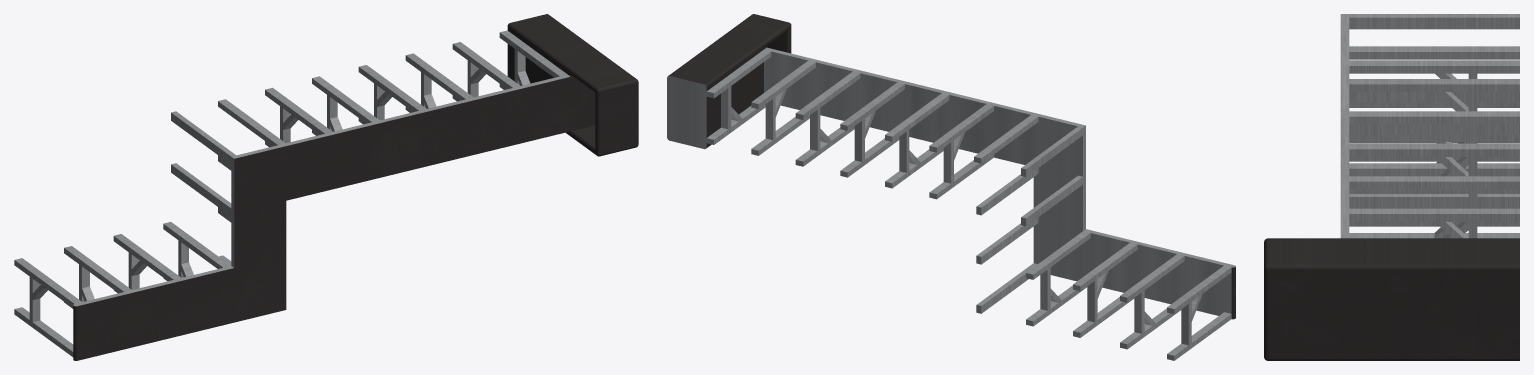
The model's file is assembly_conveyor.gltf.
3 views of the same model, side by side, from view 1: azimuth 30°, elevation 25°; view 2: azimuth 150°, elevation 25°; view 3: azimuth 270°, elevation 25° (orthographic). The views are drawn at different scales.
Visible parts, largest first — view 1: assembly_conveyor; view 2: assembly_conveyor; view 3: assembly_conveyor.
Boxes of the visible parts, x1,y1,x2,y2 form: assembly_conveyor: (14,14,638,360); assembly_conveyor: (667,14,1235,360); assembly_conveyor: (1264,14,1519,360).
Size of the model in its own units: 2.06 by 0.625 by 0.6.
3 materials, 3 textured.
